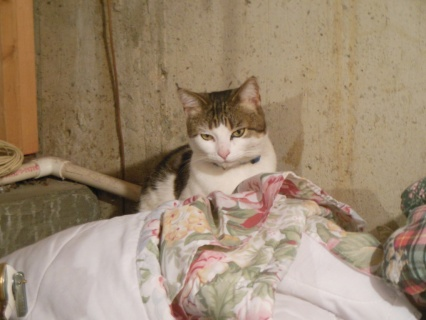Cat: (137, 74, 276, 213)
